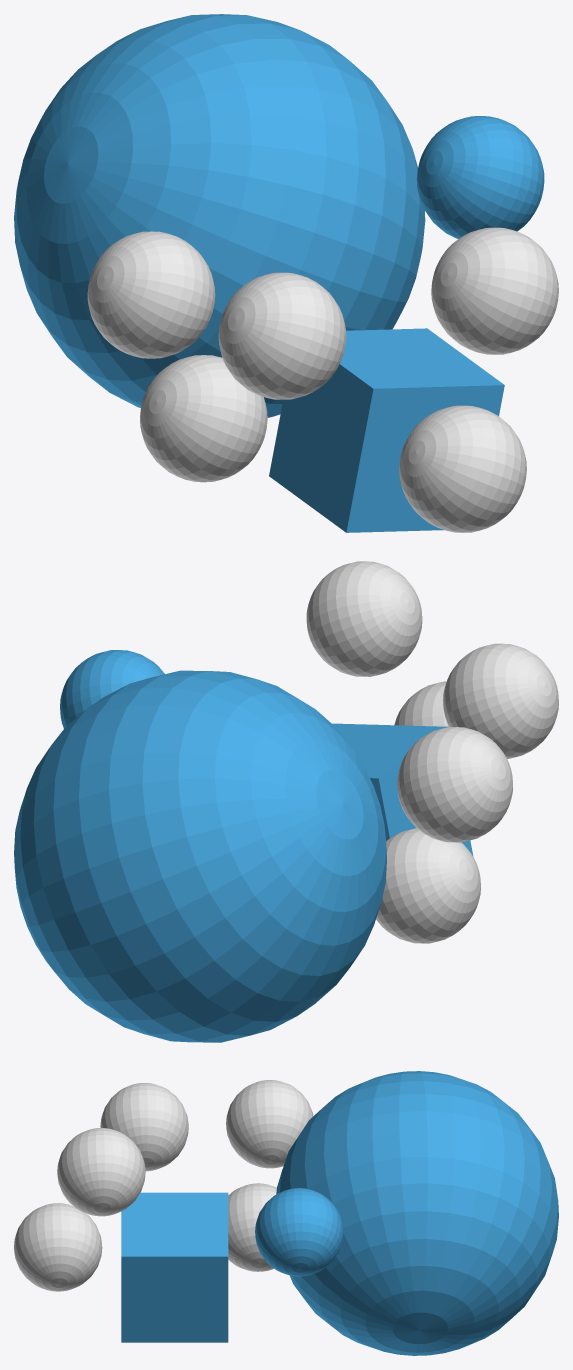
File: circleSquare.glb
3 renders of one model, top to bottom at view 1: azimuth 30°, elevation 25°; view 2: azimuth 150°, elevation 25°; view 3: azimuth 270°, elevation 25°, orthographic. The views are drawn at different scales.
Parts seen in each view (by area): view 1: Sphere.006, Cube, Sphere.003, Sphere.005, Sphere.002, Sphere, Sphere.004, Sphere.001; view 2: Sphere.006, Sphere, Sphere.003, Sphere.005, Sphere.004, Cube, Sphere.001, Sphere.002; view 3: Sphere.006, Cube, Sphere, Sphere.001, Sphere.002, Sphere.003, Sphere.005, Sphere.004.
Part boxes in pixels (x1=…): Sphere.006: x1=14, y1=14, x2=425, y2=417; Cube: x1=269, y1=328, x2=504, y2=532; Sphere.003: x1=87, y1=231, x2=215, y2=358; Sphere.005: x1=218, y1=272, x2=346, y2=399; Sphere.002: x1=399, y1=405, x2=526, y2=532; Sphere: x1=431, y1=227, x2=558, y2=354; Sphere.004: x1=140, y1=355, x2=267, y2=482; Sphere.001: x1=416, y1=116, x2=544, y2=238; Sphere.006: x1=14, y1=670, x2=386, y2=1042; Sphere: x1=306, y1=561, x2=422, y2=676; Sphere.003: x1=397, y1=727, x2=512, y2=842; Sphere.005: x1=443, y1=643, x2=558, y2=758; Sphere.004: x1=376, y1=828, x2=480, y2=943; Cube: x1=332, y1=723, x2=473, y2=856; Sphere.001: x1=60, y1=650, x2=164, y2=728; Sphere.002: x1=394, y1=681, x2=448, y2=726; Sphere.006: x1=276, y1=1071, x2=558, y2=1355; Cube: x1=121, y1=1192, x2=228, y2=1342; Sphere: x1=57, y1=1128, x2=145, y2=1216; Sphere.001: x1=255, y1=1188, x2=343, y2=1276; Sphere.002: x1=14, y1=1203, x2=102, y2=1291; Sphere.003: x1=226, y1=1080, x2=313, y2=1168; Sphere.005: x1=100, y1=1083, x2=188, y2=1171; Sphere.004: x1=228, y1=1183, x2=276, y2=1271.
Bounding box in the file's own units: 6.87 × 5.3 × 10.17.
